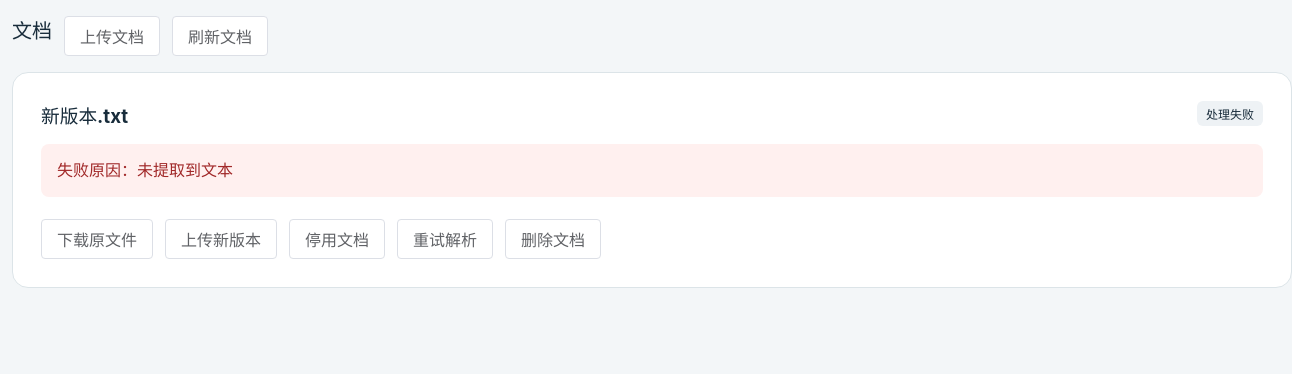
it: admin can retry failed parse and receives an error on a failed write
Click the button "重试解析".
click(445, 239)  # box [397,219,493,259]
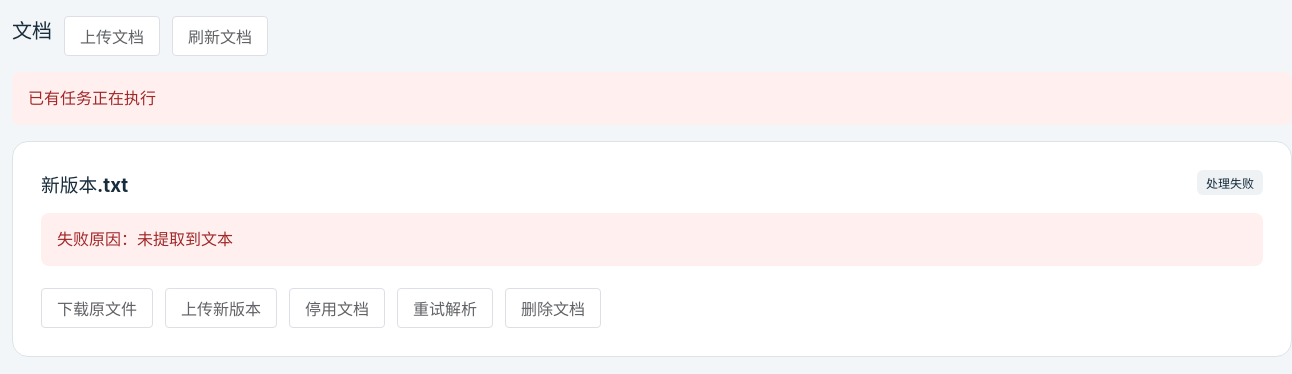
Expected: the message "已有任务正在执行" is shown, [12,72,1291,125]
